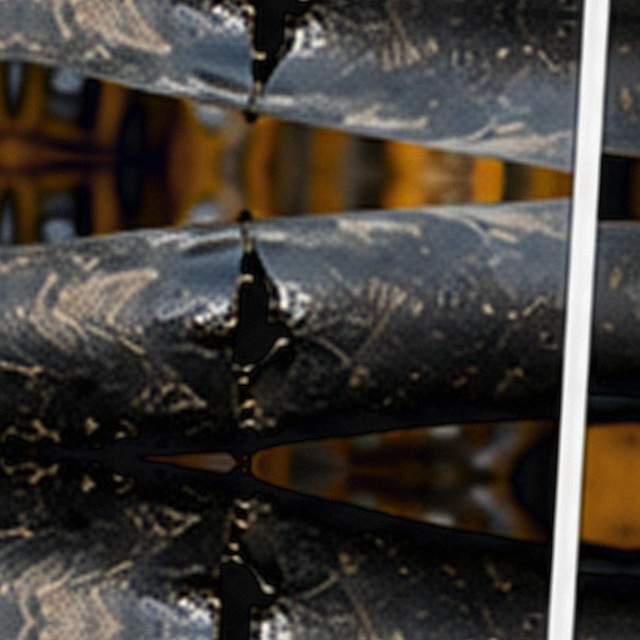hydraulic_oil_leak: (196, 196, 434, 428)
